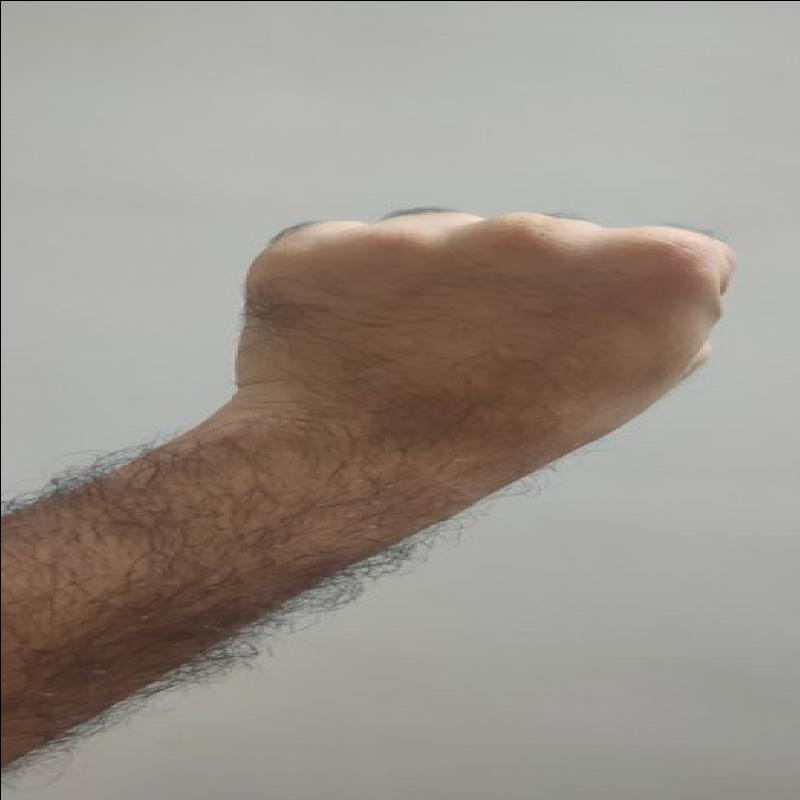Mushti: (183, 186, 748, 442)
